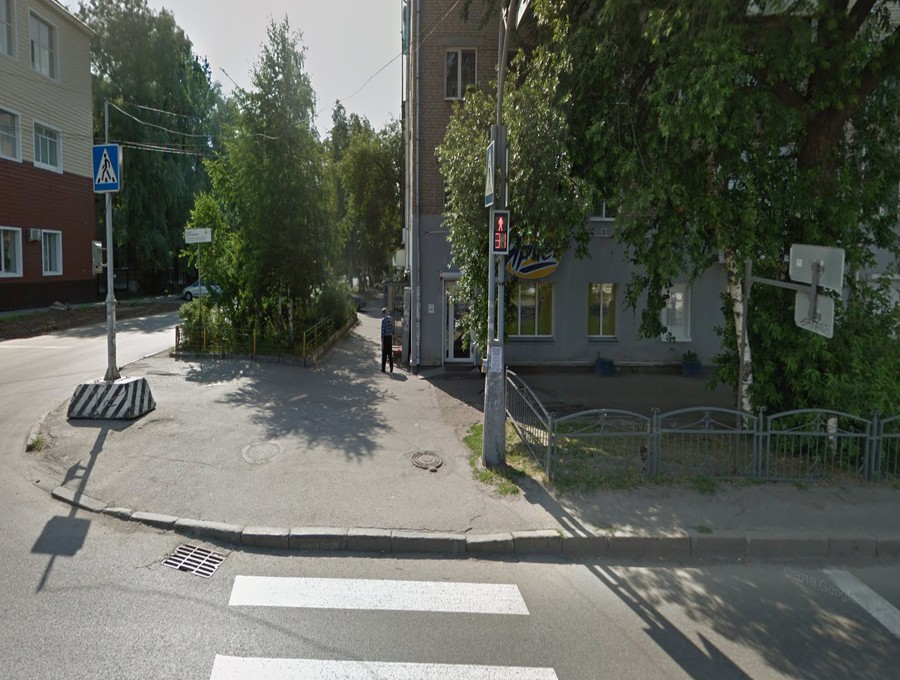Traffic Light-red: (492, 210, 512, 251)
